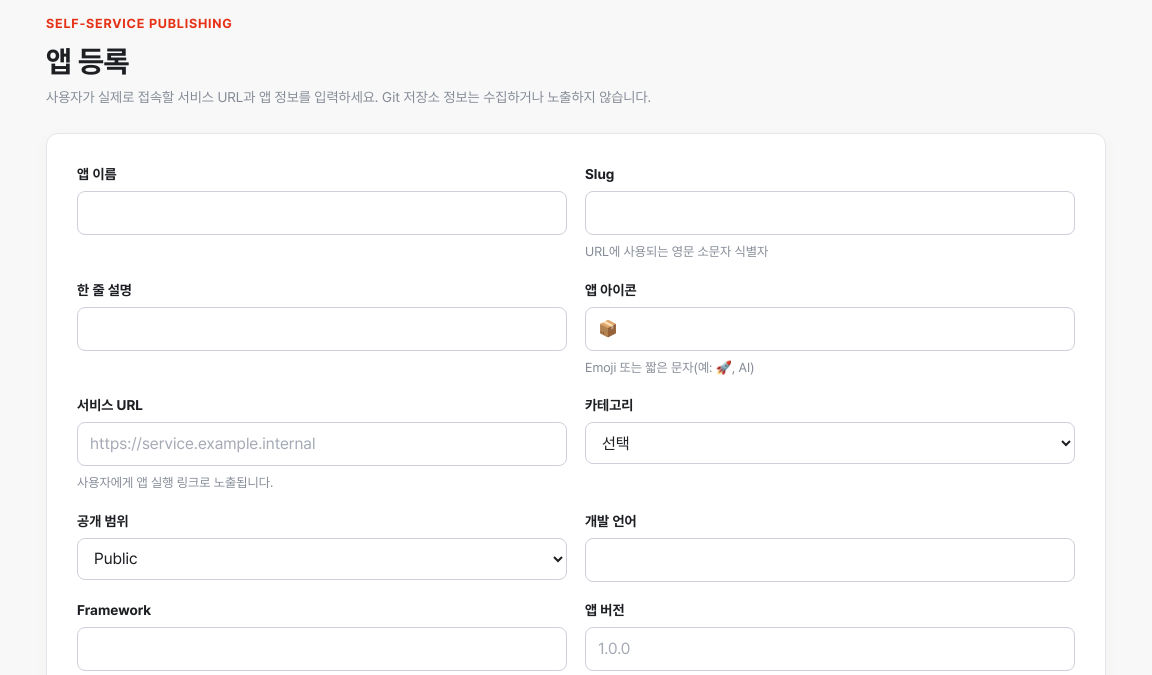
Test: Saved application completion › shows the POST response status draft as 초안
Type "Agent Hub" into the field labelled "앱 이름" at (322, 213), box x1=77 y1=191 x2=567 y2=235
Type "agent-hub" into the field labelled "Slug" at (830, 213), box x1=585 y1=191 x2=1075 y2=235
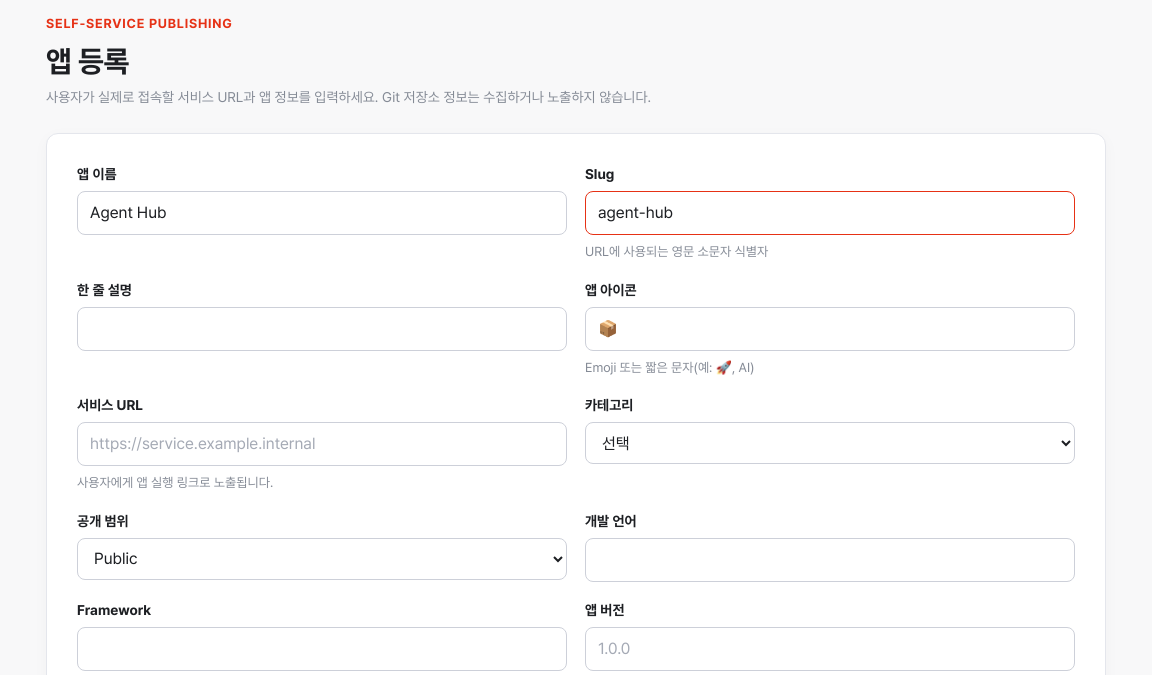
Type "AI 에이전트 카탈로그" into the field labelled "한 줄 설명" at (322, 329), box x1=77 y1=307 x2=567 y2=351
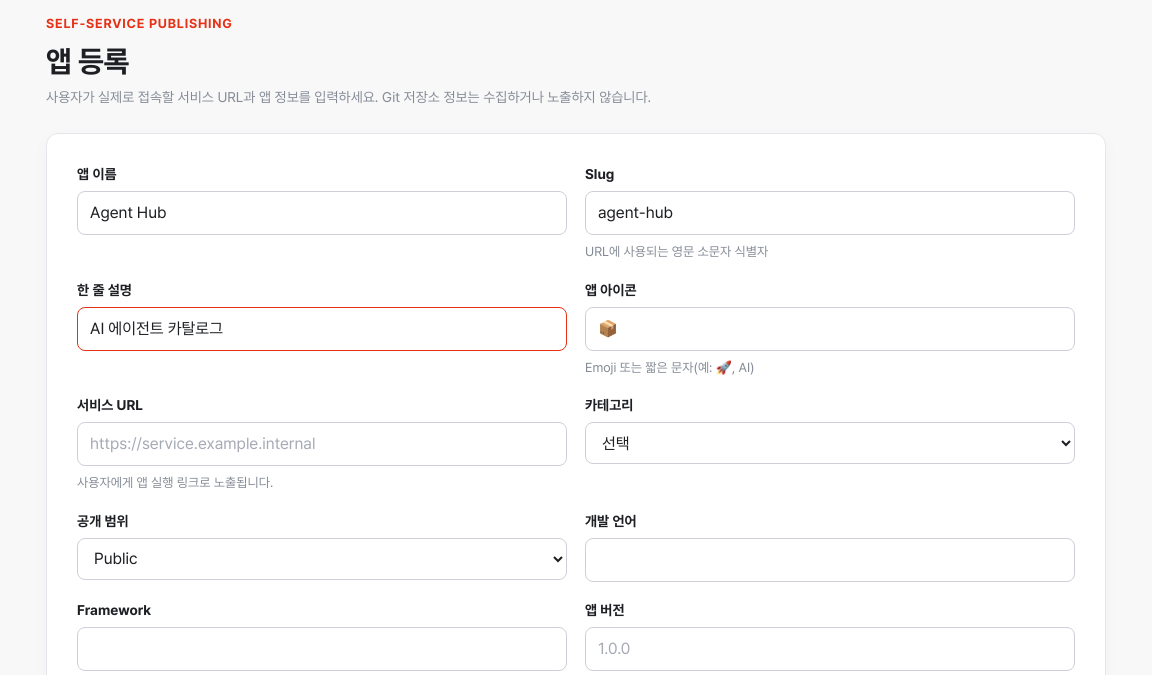
Type "https://agent.example.internal" into the field labelled "서비스 URL" at (322, 444), box x1=77 y1=422 x2=567 y2=466
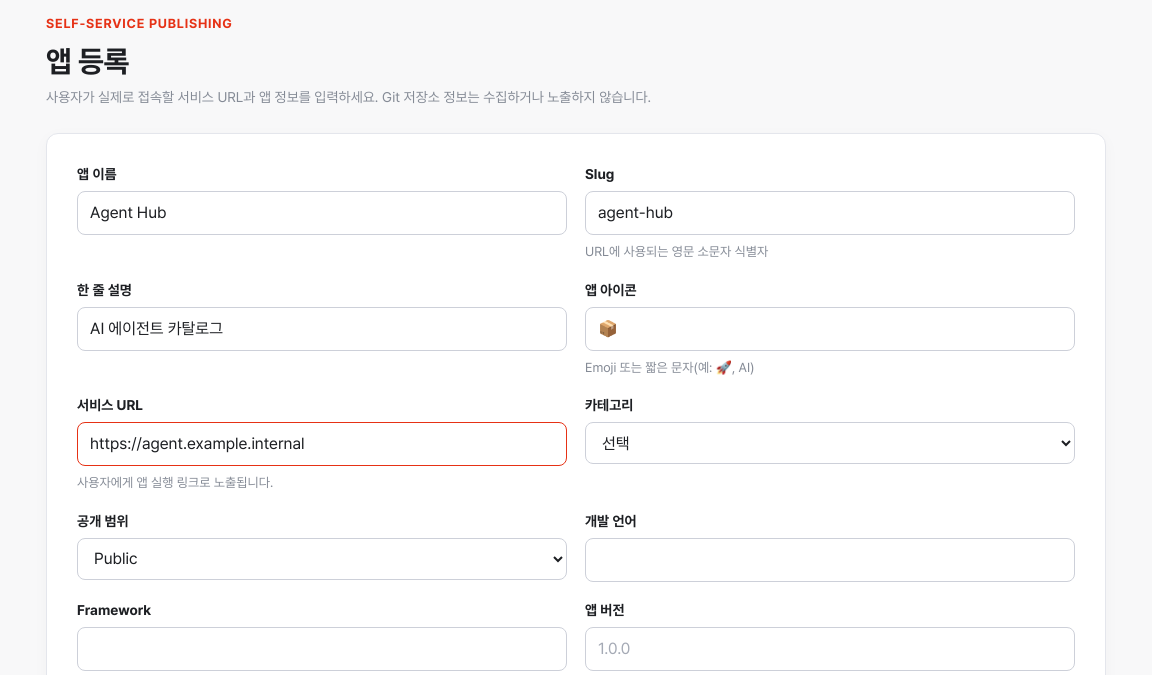
Select "AI" in the dropdown labelled "카테고리" at (830, 443), box x1=585 y1=422 x2=1075 y2=464
(page scrolled)
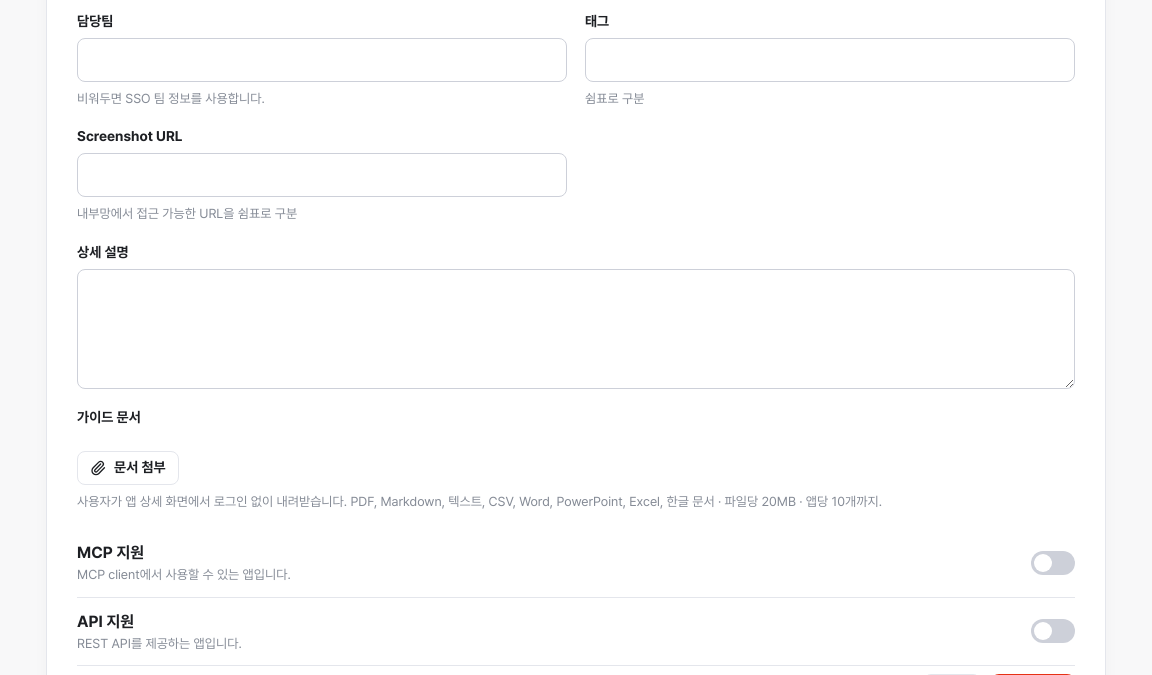
Type "팀의 에이전트를 탐색합니다." into the text box labelled "상세 설명" at (576, 329), box x1=77 y1=269 x2=1075 y2=389
(page scrolled)
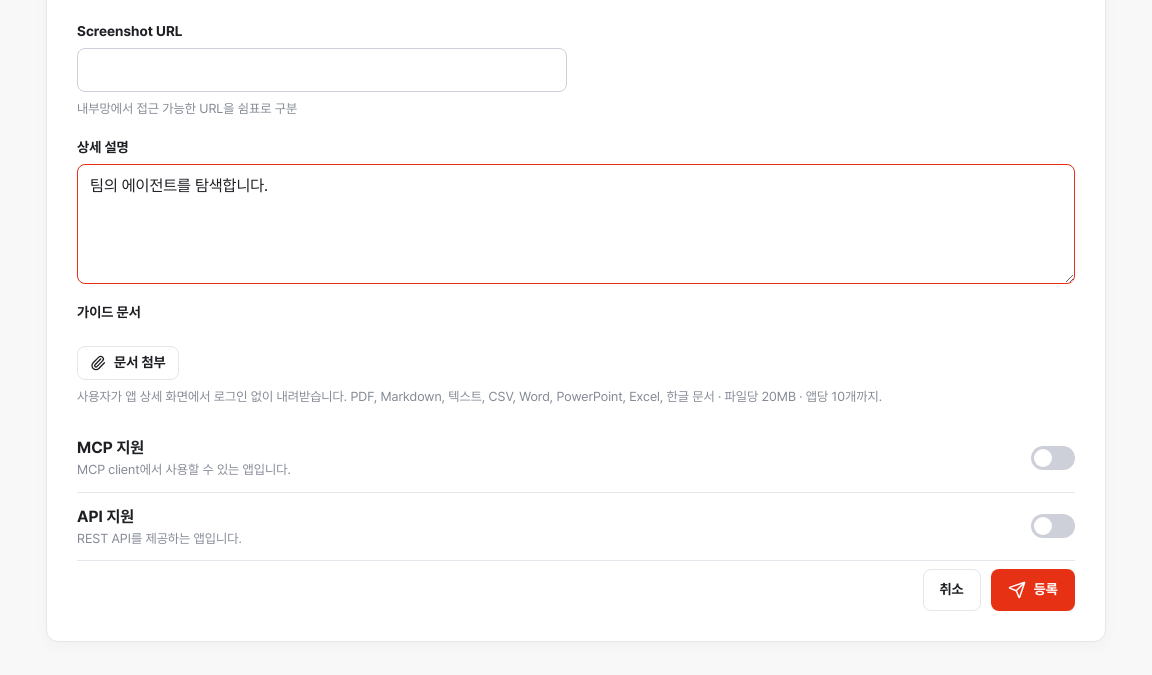
Click the button "등록" at (1033, 590), box x1=991 y1=569 x2=1075 y2=611
(page scrolled)
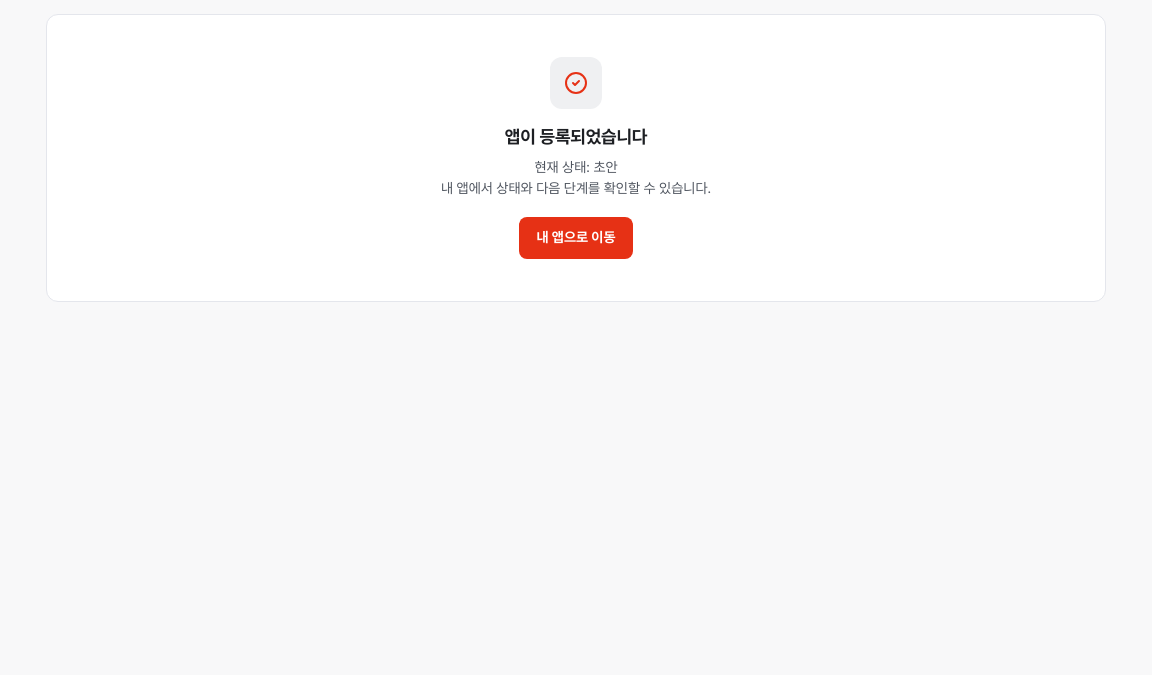
Now the element "앱이 등록되었습니다" shows "현재 상태: 초안", box x1=46 y1=14 x2=1106 y2=302
